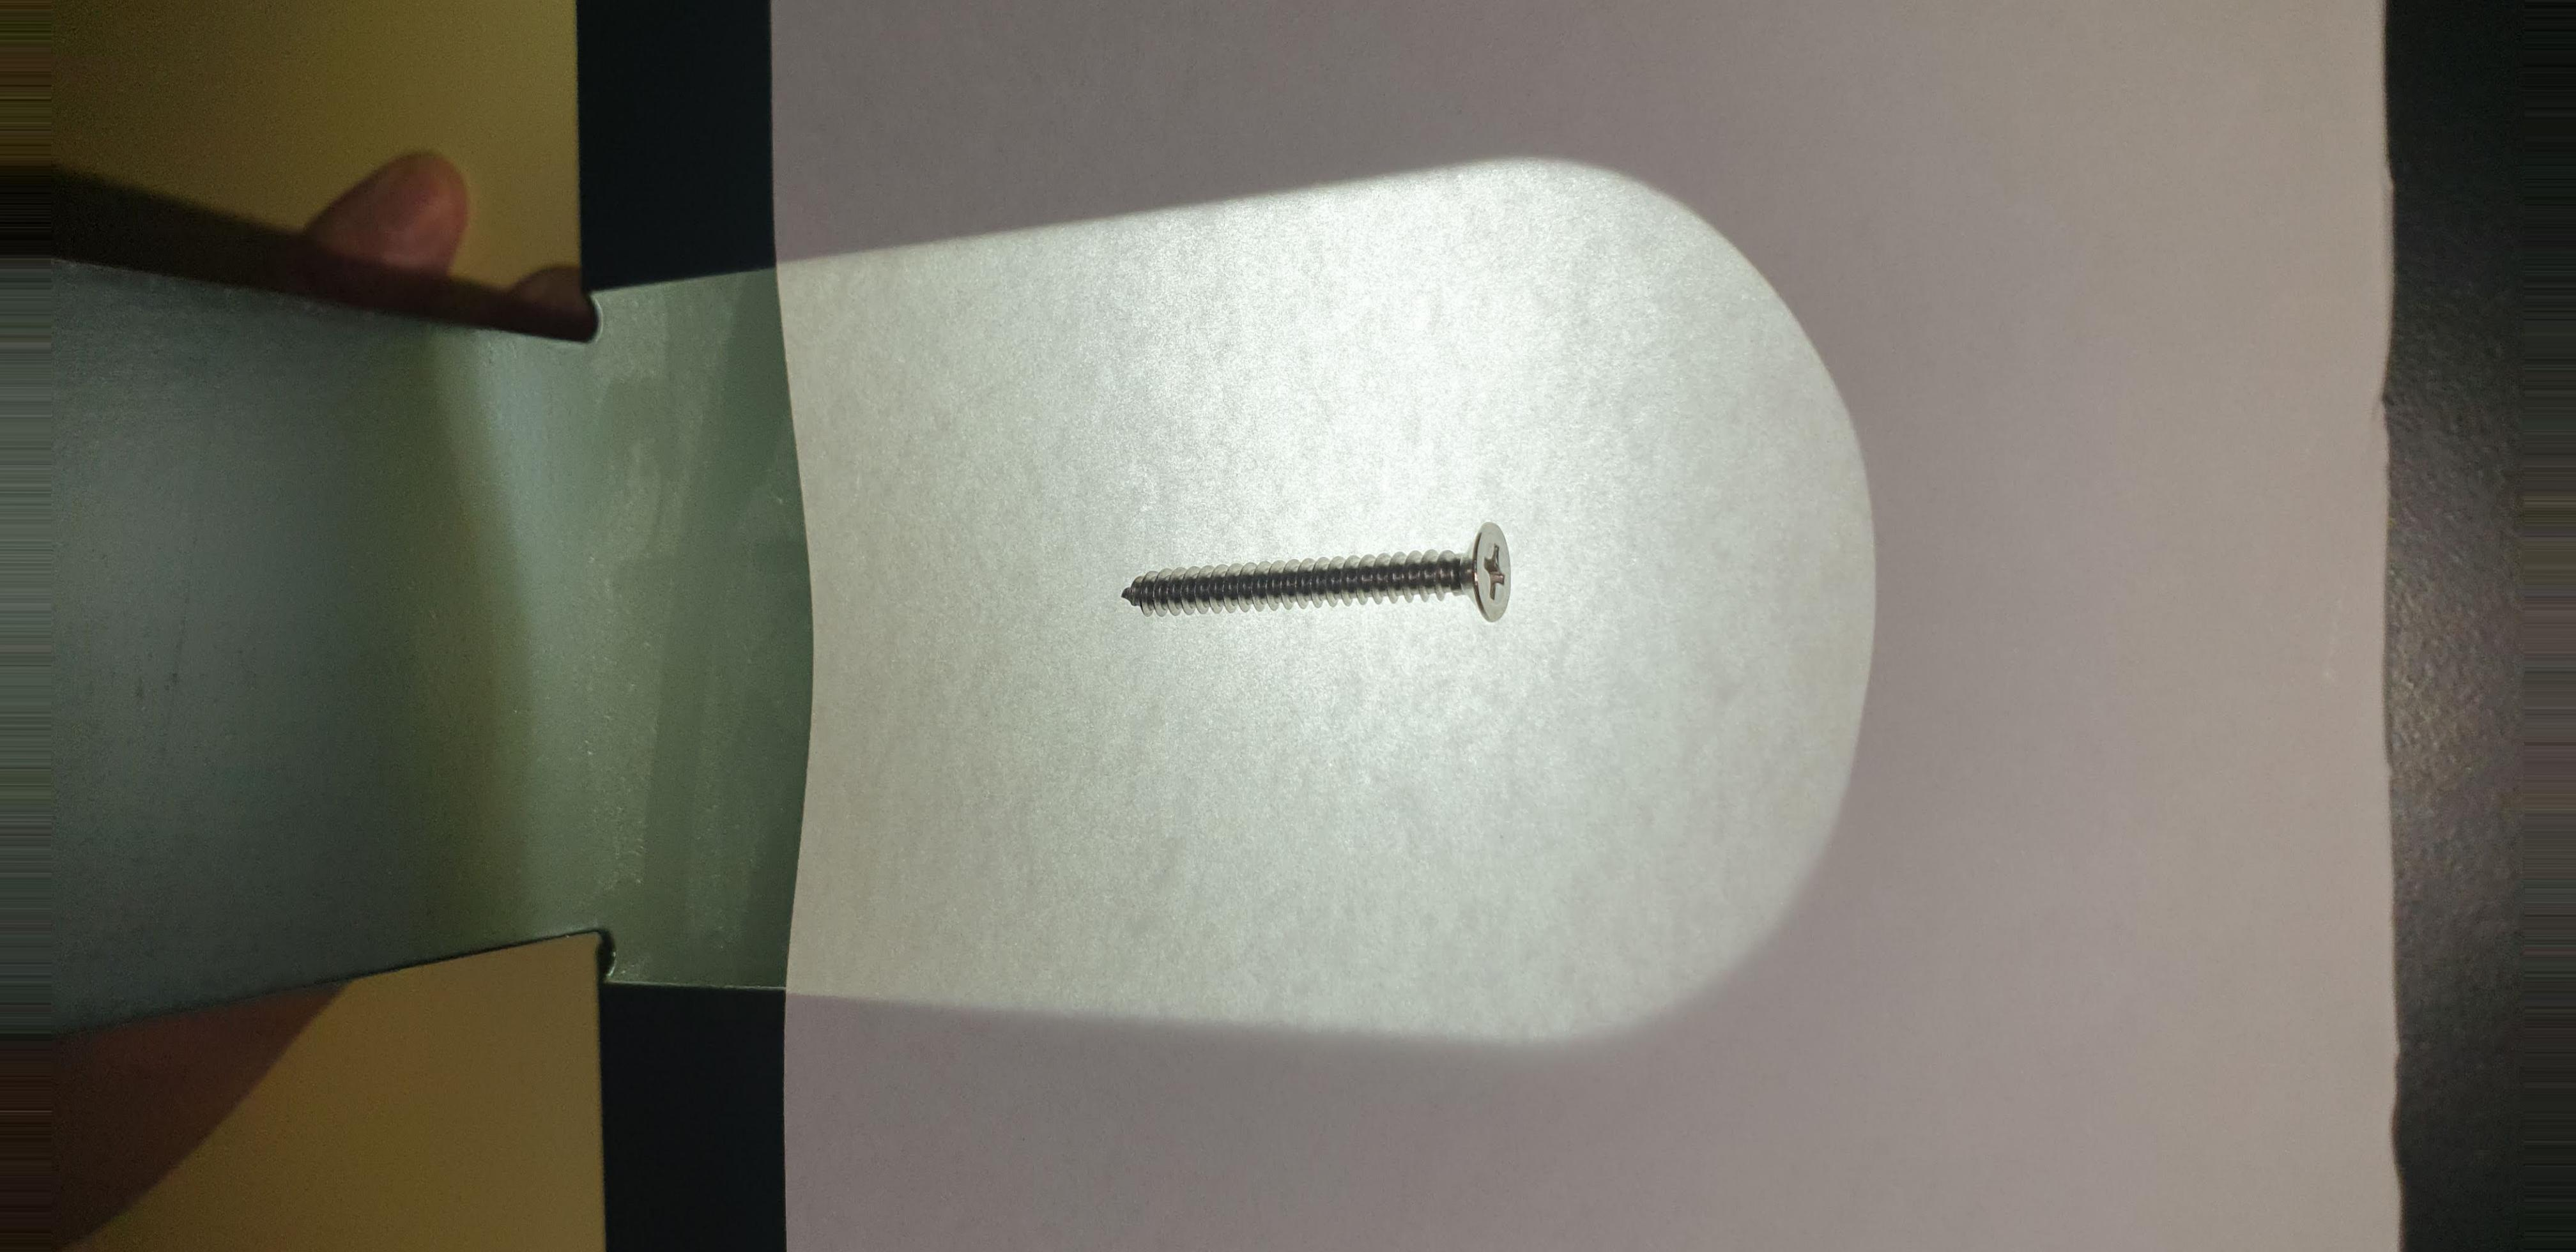fastener: (969, 504, 1648, 664)
